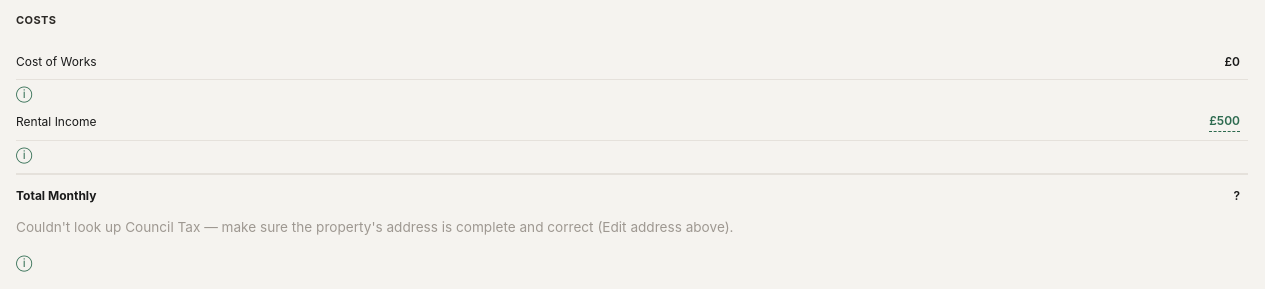
Test: CostsSection rental income click › clicking rental income value starts editing when currentPerson is set
Note: Click it
Step 1. Click the text "£500" → (1225, 122), box [1209,112,1240,132]
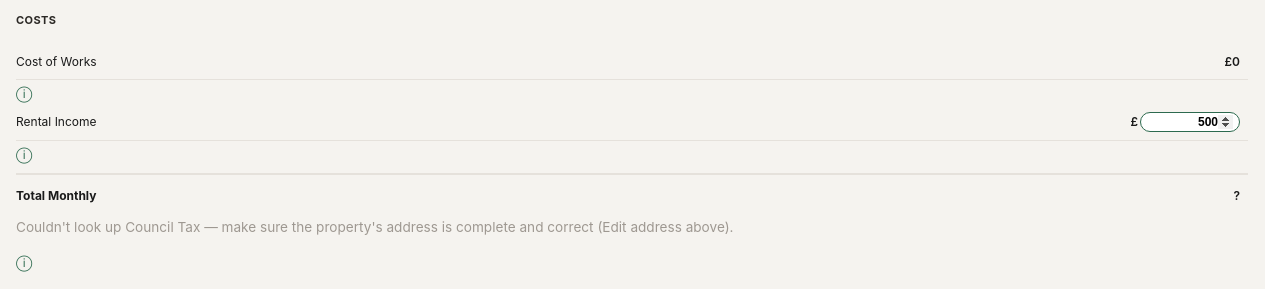
Expected: the number field is shown, [1140,112,1240,132]
